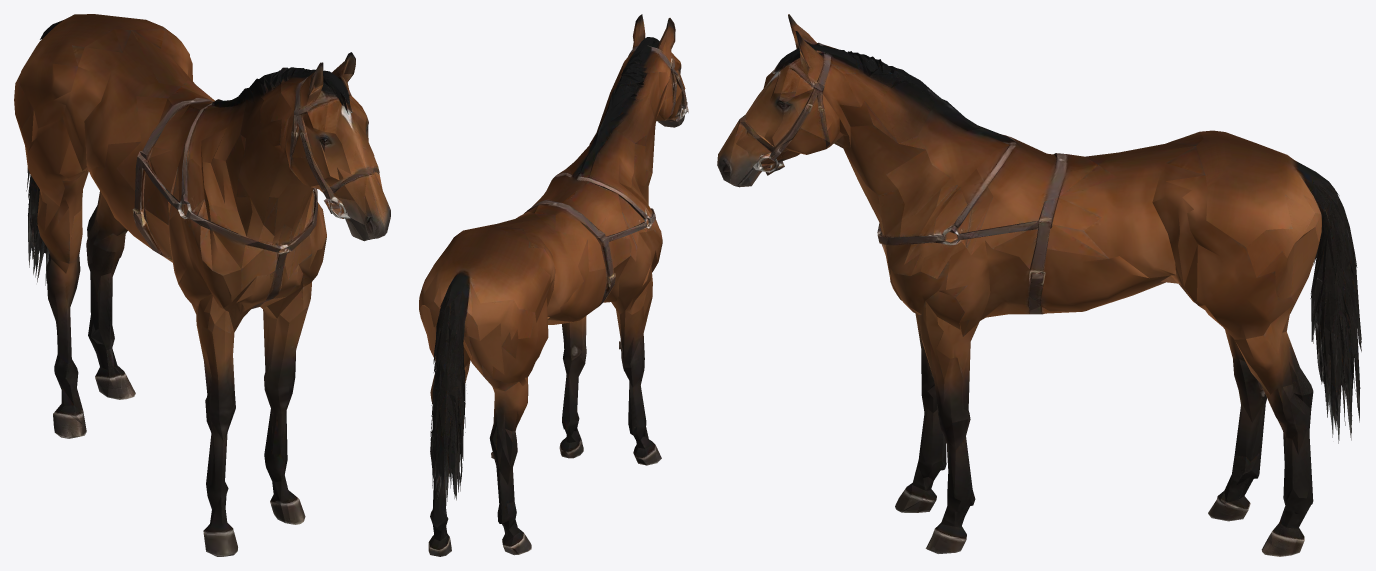
File: horse.glb
3 views of the same model, side by side, from view 1: azimuth 30°, elevation 25°; view 2: azimuth 150°, elevation 25°; view 3: azimuth 270°, elevation 25° (orthographic). The views are drawn at different scales.
Size of the model in its own units: 0.461 by 1.67 by 1.9.
1 material, 1 textured.
